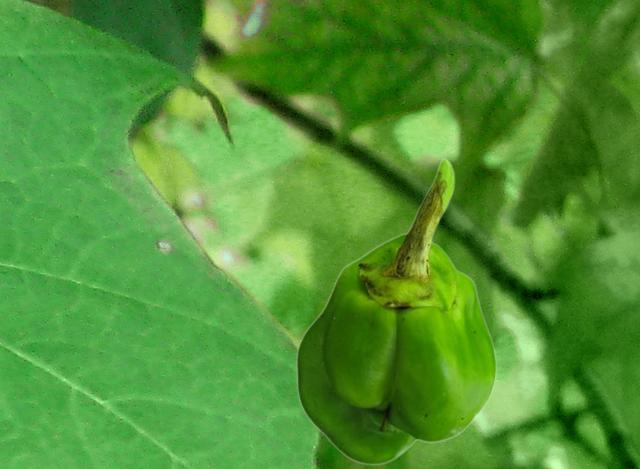bell_pepper: (295, 157, 496, 464)
